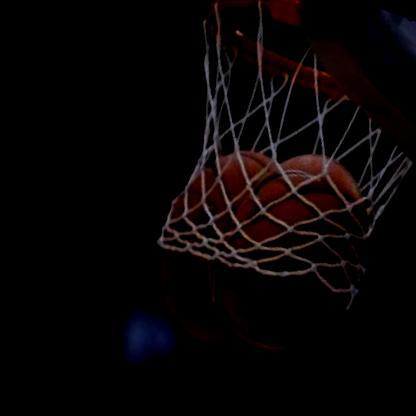basketball: (162, 125, 416, 401), (93, 118, 313, 375)
